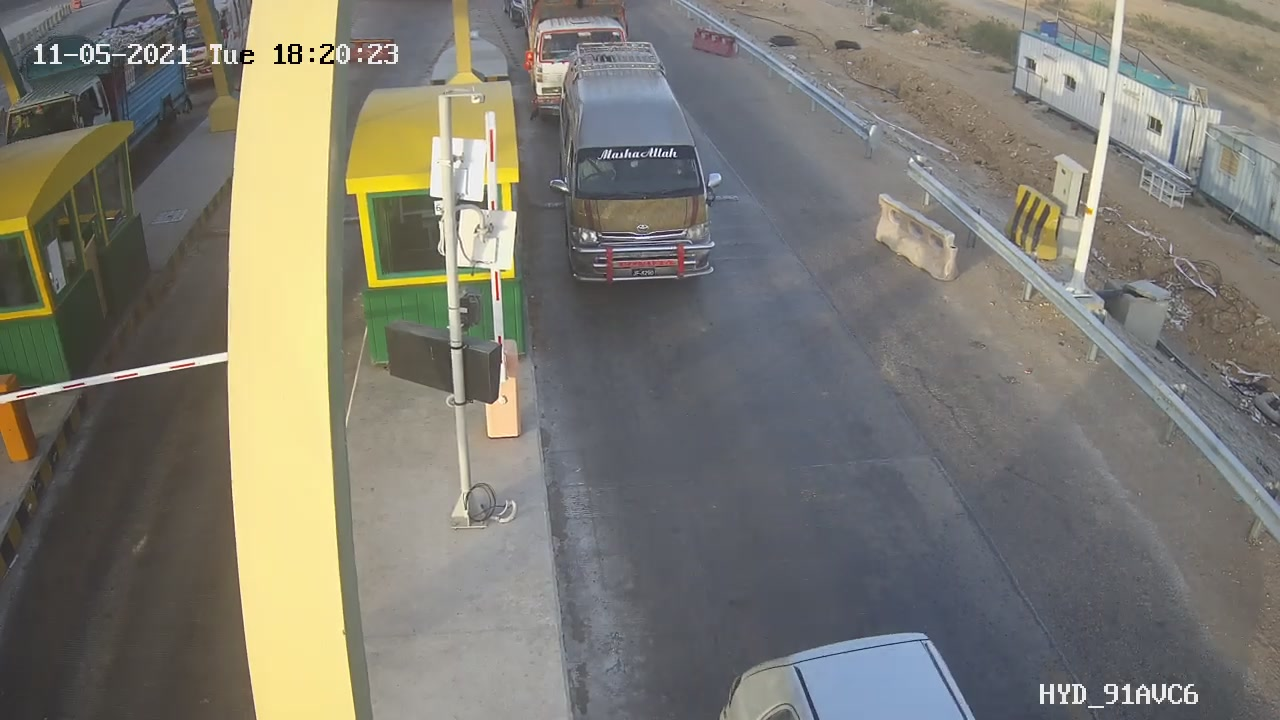F2: (542, 49, 725, 297)
